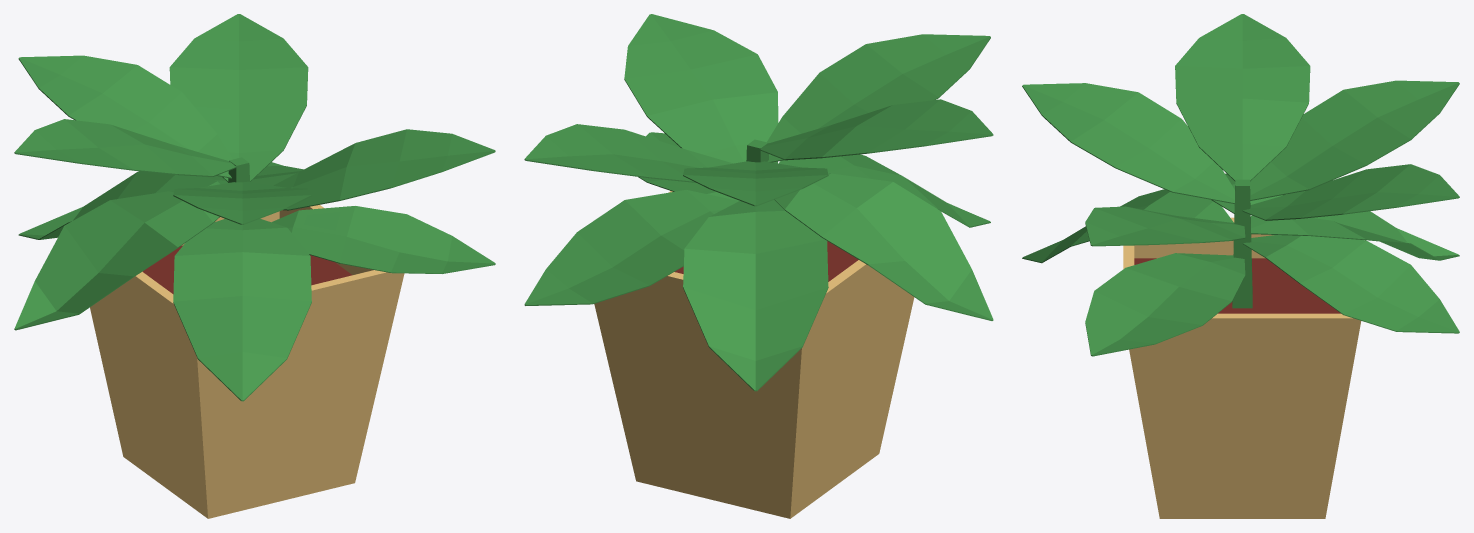
Rendered from Planta.fbx.
The picture shows the model from 3 angles, left to right: view 1: azimuth 30°, elevation 25°; view 2: azimuth 150°, elevation 25°; view 3: azimuth 270°, elevation 25°; orthographic projection. The views are drawn at different scales.
Parts seen in each view (by area): view 1: Cube, Cube.008, Cube.004, Cube.006, Cube.005, Cube.007, Cube.002, Cube.001, Cube.003, Cube.010, Cube.009; view 2: Cube, Cube.010, Cube.002, Cube.006, Cube.009, Cube.003, Cube.001, Cube.004, Cube.005, Cube.008, Cube.007; view 3: Cube, Cube.001, Cube.003, Cube.005, Cube.009, Cube.007, Cube.004, Cube.002, Cube.010, Cube.008.
Boxes of the visible parts, x1,y1,x2,y2 form: Cube: [90, 157, 404, 518]; Cube.008: [173, 218, 311, 401]; Cube.004: [169, 14, 308, 182]; Cube.006: [14, 191, 219, 330]; Cube.005: [18, 55, 232, 178]; Cube.007: [272, 206, 495, 273]; Cube.002: [273, 129, 495, 210]; Cube.001: [14, 119, 236, 176]; Cube.003: [173, 181, 311, 224]; Cube.010: [18, 171, 219, 239]; Cube.009: [205, 162, 303, 185]; Cube: [594, 139, 914, 518]; Cube.010: [683, 200, 828, 391]; Cube.002: [624, 14, 778, 163]; Cube.006: [774, 173, 993, 320]; Cube.009: [524, 190, 738, 305]; Cube.003: [767, 34, 990, 162]; Cube.001: [760, 99, 993, 160]; Cube.004: [524, 124, 733, 182]; Cube.005: [683, 161, 828, 206]; Cube.008: [778, 154, 990, 227]; Cube.007: [638, 132, 777, 200]; Cube: [1123, 179, 1361, 518]; Cube.001: [1175, 14, 1310, 181]; Cube.003: [1022, 83, 1234, 203]; Cube.005: [1250, 80, 1459, 200]; Cube.009: [1243, 235, 1459, 333]; Cube.007: [1085, 253, 1245, 356]; Cube.004: [1242, 164, 1459, 220]; Cube.002: [1085, 206, 1245, 246]; Cube.010: [1251, 194, 1459, 260]; Cube.008: [1022, 189, 1233, 263].
Size of the model in its own units: 46.01 by 40.49 by 44.22.
